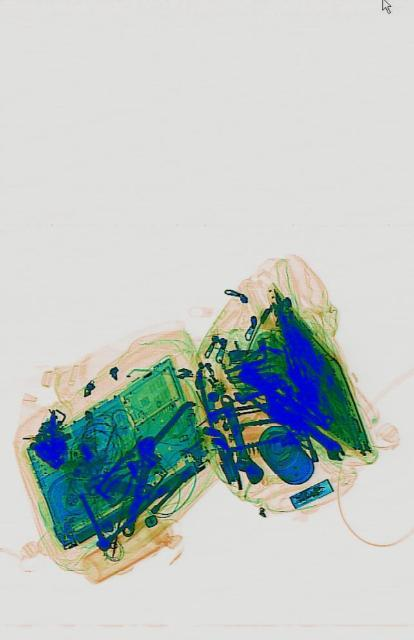Pliers: (100, 460, 139, 508)
Wrench: (111, 427, 164, 541), (211, 386, 263, 492), (295, 412, 346, 466), (84, 469, 151, 501)
